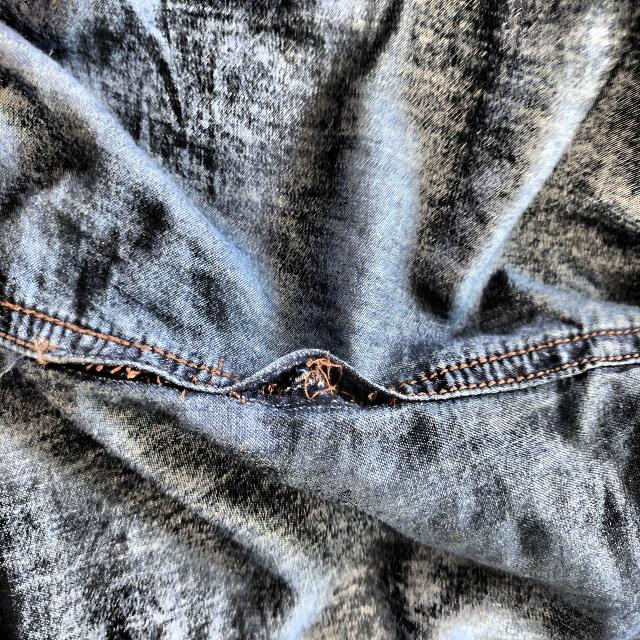seam: (235, 335, 412, 424), (42, 339, 200, 404)
